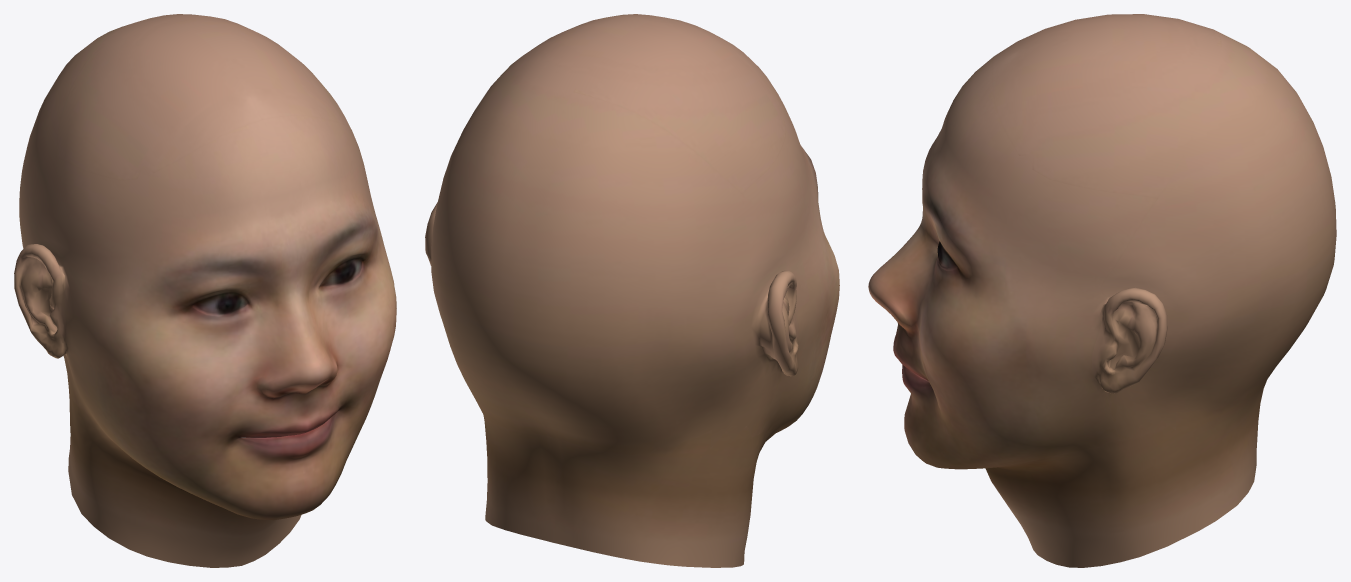
The picture shows the model from 3 angles, left to right: view 1: azimuth 30°, elevation 25°; view 2: azimuth 150°, elevation 25°; view 3: azimuth 270°, elevation 25°; orthographic projection. The views are drawn at different scales.
Visible parts, largest first — view 1: HeadHires; view 2: HeadHires; view 3: HeadHires.
Part boxes in pixels (left/top/right/bottom): HeadHires: left=14, top=14, right=396, bottom=567; HeadHires: left=425, top=14, right=839, bottom=567; HeadHires: left=868, top=14, right=1336, bottom=567.
Size of the model in its own units: 197 by 283 by 233.
